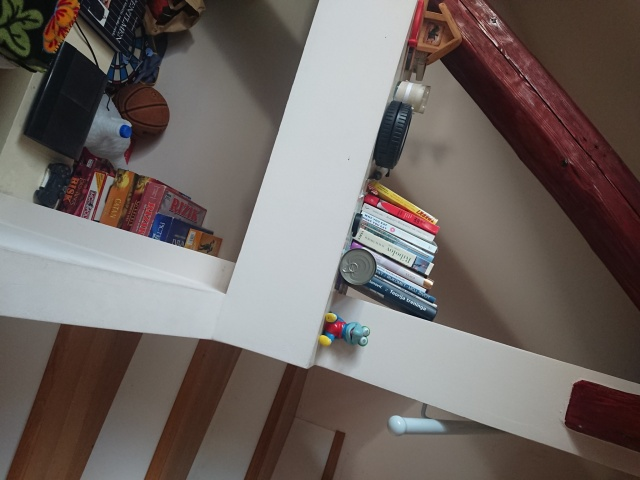Giana Tuna Salad Mexico 185g: (337, 246, 379, 288)
